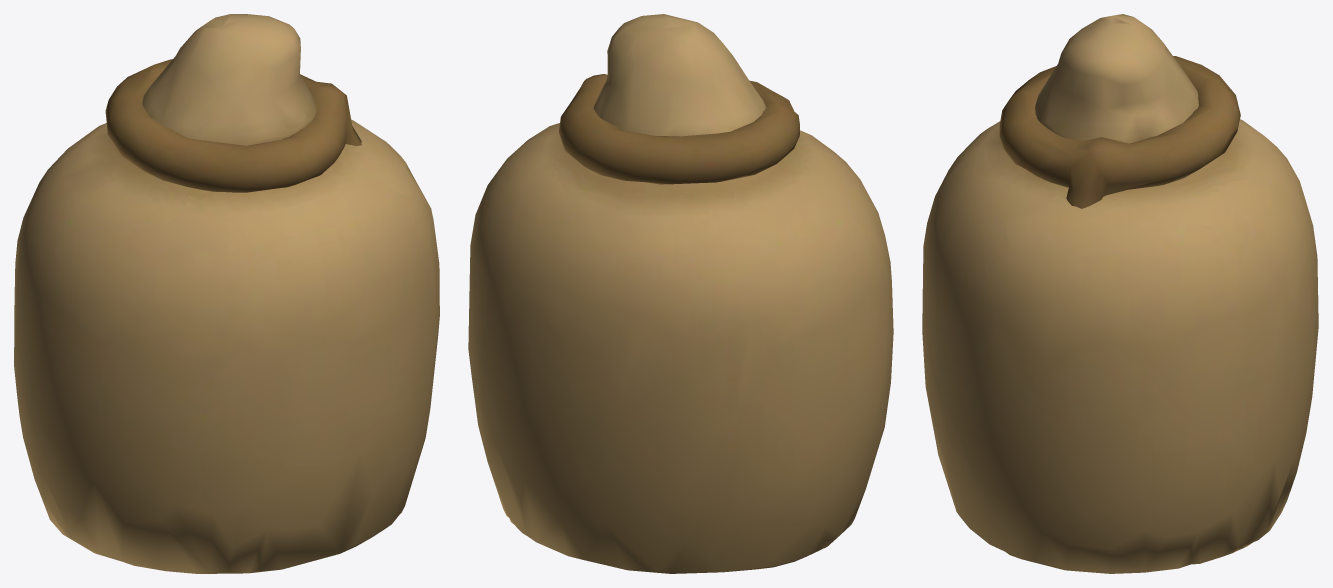
The model's file is sack.glb.
The picture shows the model from 3 angles, left to right: view 1: azimuth 30°, elevation 25°; view 2: azimuth 150°, elevation 25°; view 3: azimuth 270°, elevation 25°; orthographic projection.
Parts seen in each view (by area): view 1: burlap; view 2: burlap; view 3: burlap.
Boxes of the visible parts, bbox=[...] form: burlap: bbox=[14, 14, 439, 573]; burlap: bbox=[468, 14, 893, 573]; burlap: bbox=[922, 14, 1318, 573].
Bounding box in the file's own units: 0.3494 × 0.43 × 0.3203.
1 material, 1 textured.
